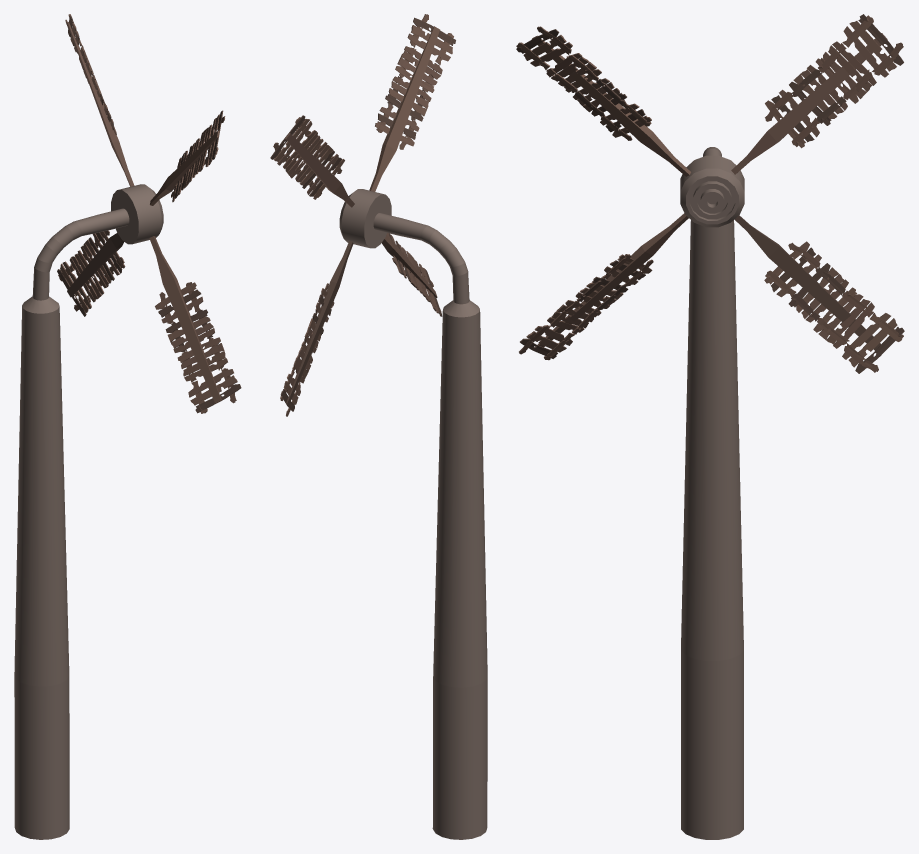
The model's file is Molino_aspas.fbx.
3 views of the same model, side by side, from view 1: azimuth 30°, elevation 25°; view 2: azimuth 150°, elevation 25°; view 3: azimuth 270°, elevation 25° (orthographic). The views are drawn at different scales.
Visible parts, largest first — view 1: Molino, Aspas; view 2: Molino, Aspas; view 3: Molino, Aspas.
Boxes of the visible parts, bbox=[...] form: Molino: bbox=[14, 208, 129, 839]; Aspas: bbox=[57, 14, 241, 413]; Molino: bbox=[373, 213, 487, 839]; Aspas: bbox=[270, 14, 455, 416]; Molino: bbox=[681, 147, 743, 839]; Aspas: bbox=[516, 14, 904, 373].
Size of the model in its own units: 644 by 3252 by 1323.
